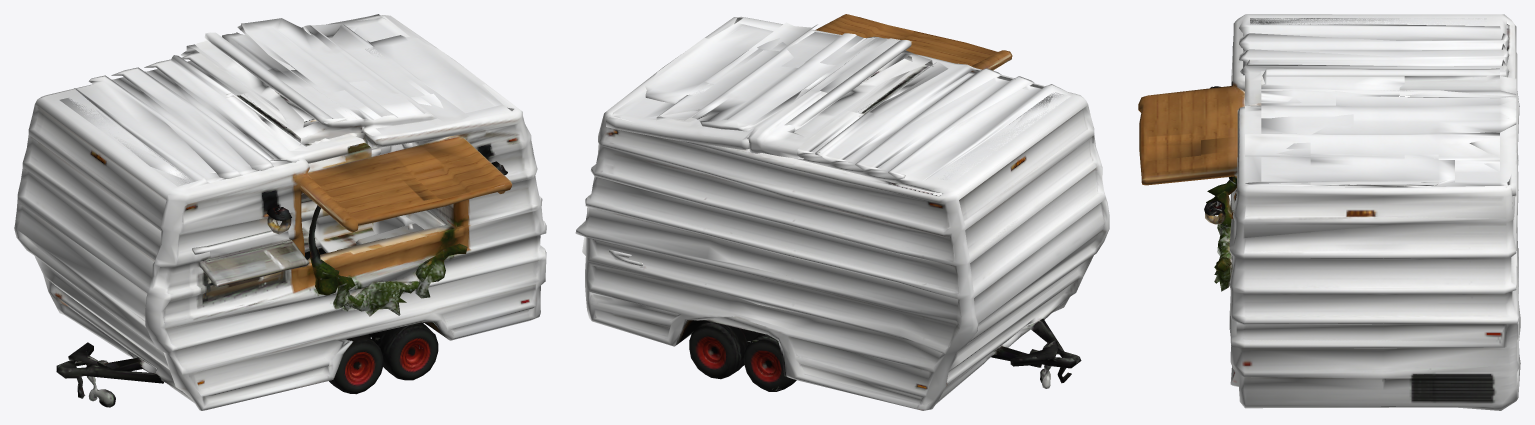
File: bar_trailer_0701034714_texture.glb
3 renders of one model, left to right at view 1: azimuth 30°, elevation 25°; view 2: azimuth 150°, elevation 25°; view 3: azimuth 270°, elevation 25°, orthographic.
Visible parts, largest first — view 1: Mesh_0.004; view 2: Mesh_0.004; view 3: Mesh_0.004.
Boxes of the visible parts, <box> form: Mesh_0.004: <box>14,14,546,410</box>; Mesh_0.004: <box>575,14,1109,410</box>; Mesh_0.004: <box>1138,14,1520,410</box>.
Size of the model in its own units: 4.99 by 3.05 by 3.85.
1 material, 1 textured.
